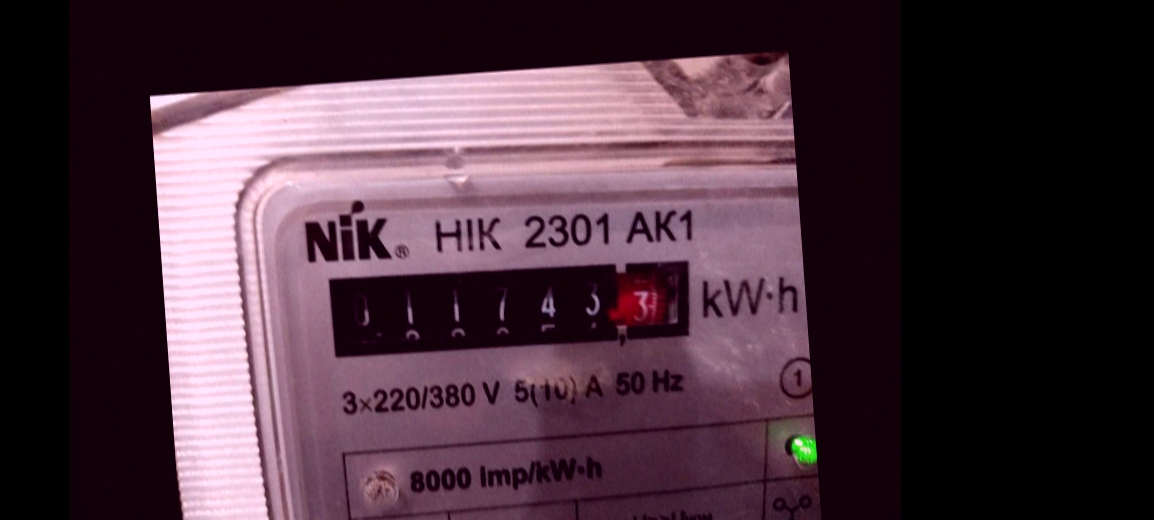0: (348, 289, 373, 329), (398, 285, 419, 327)
1: (445, 283, 464, 325)
3: (580, 276, 603, 320), (628, 285, 651, 325)
4: (535, 279, 557, 320)
7: (488, 279, 514, 325)
screen: (307, 239, 702, 373)
